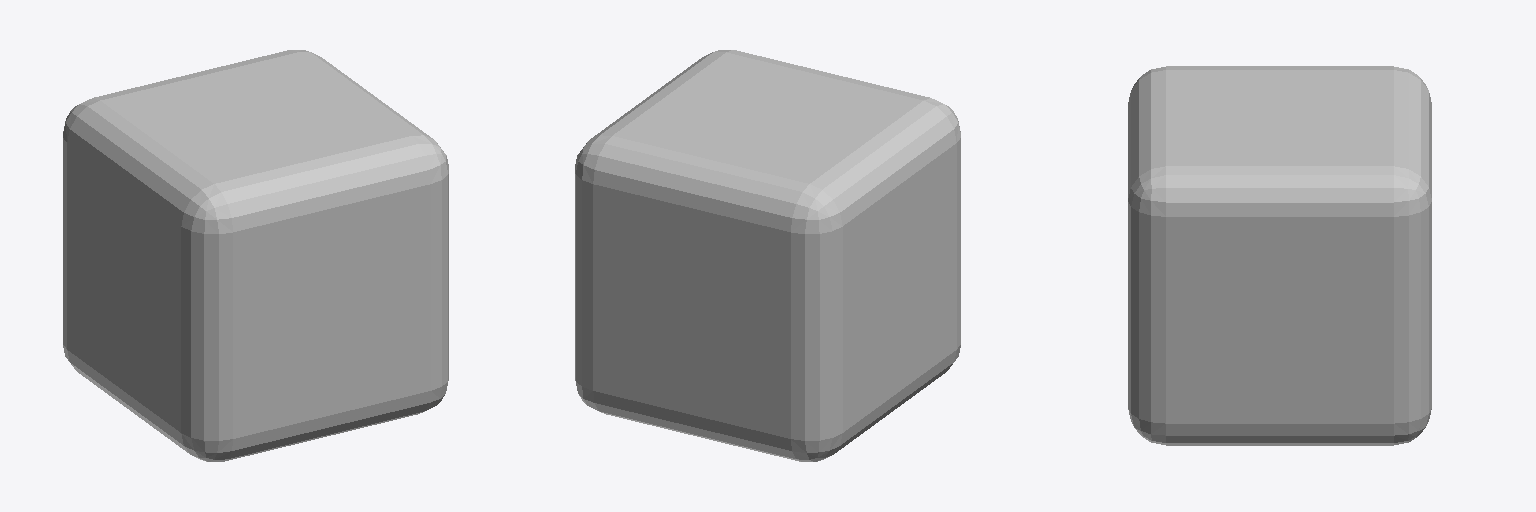
File: Head.obj
The picture shows the model from 3 angles: view 1: azimuth 30°, elevation 25°; view 2: azimuth 150°, elevation 25°; view 3: azimuth 270°, elevation 25°; orthographic projection.
Visible parts, largest first — view 1: Cube; view 2: Cube; view 3: Cube.
Part boxes in pixels (bbox=[...]): Cube: bbox=[63, 50, 448, 461]; Cube: bbox=[575, 50, 960, 461]; Cube: bbox=[1128, 66, 1431, 445].
Size of the model in its own units: 2 by 2 by 2.